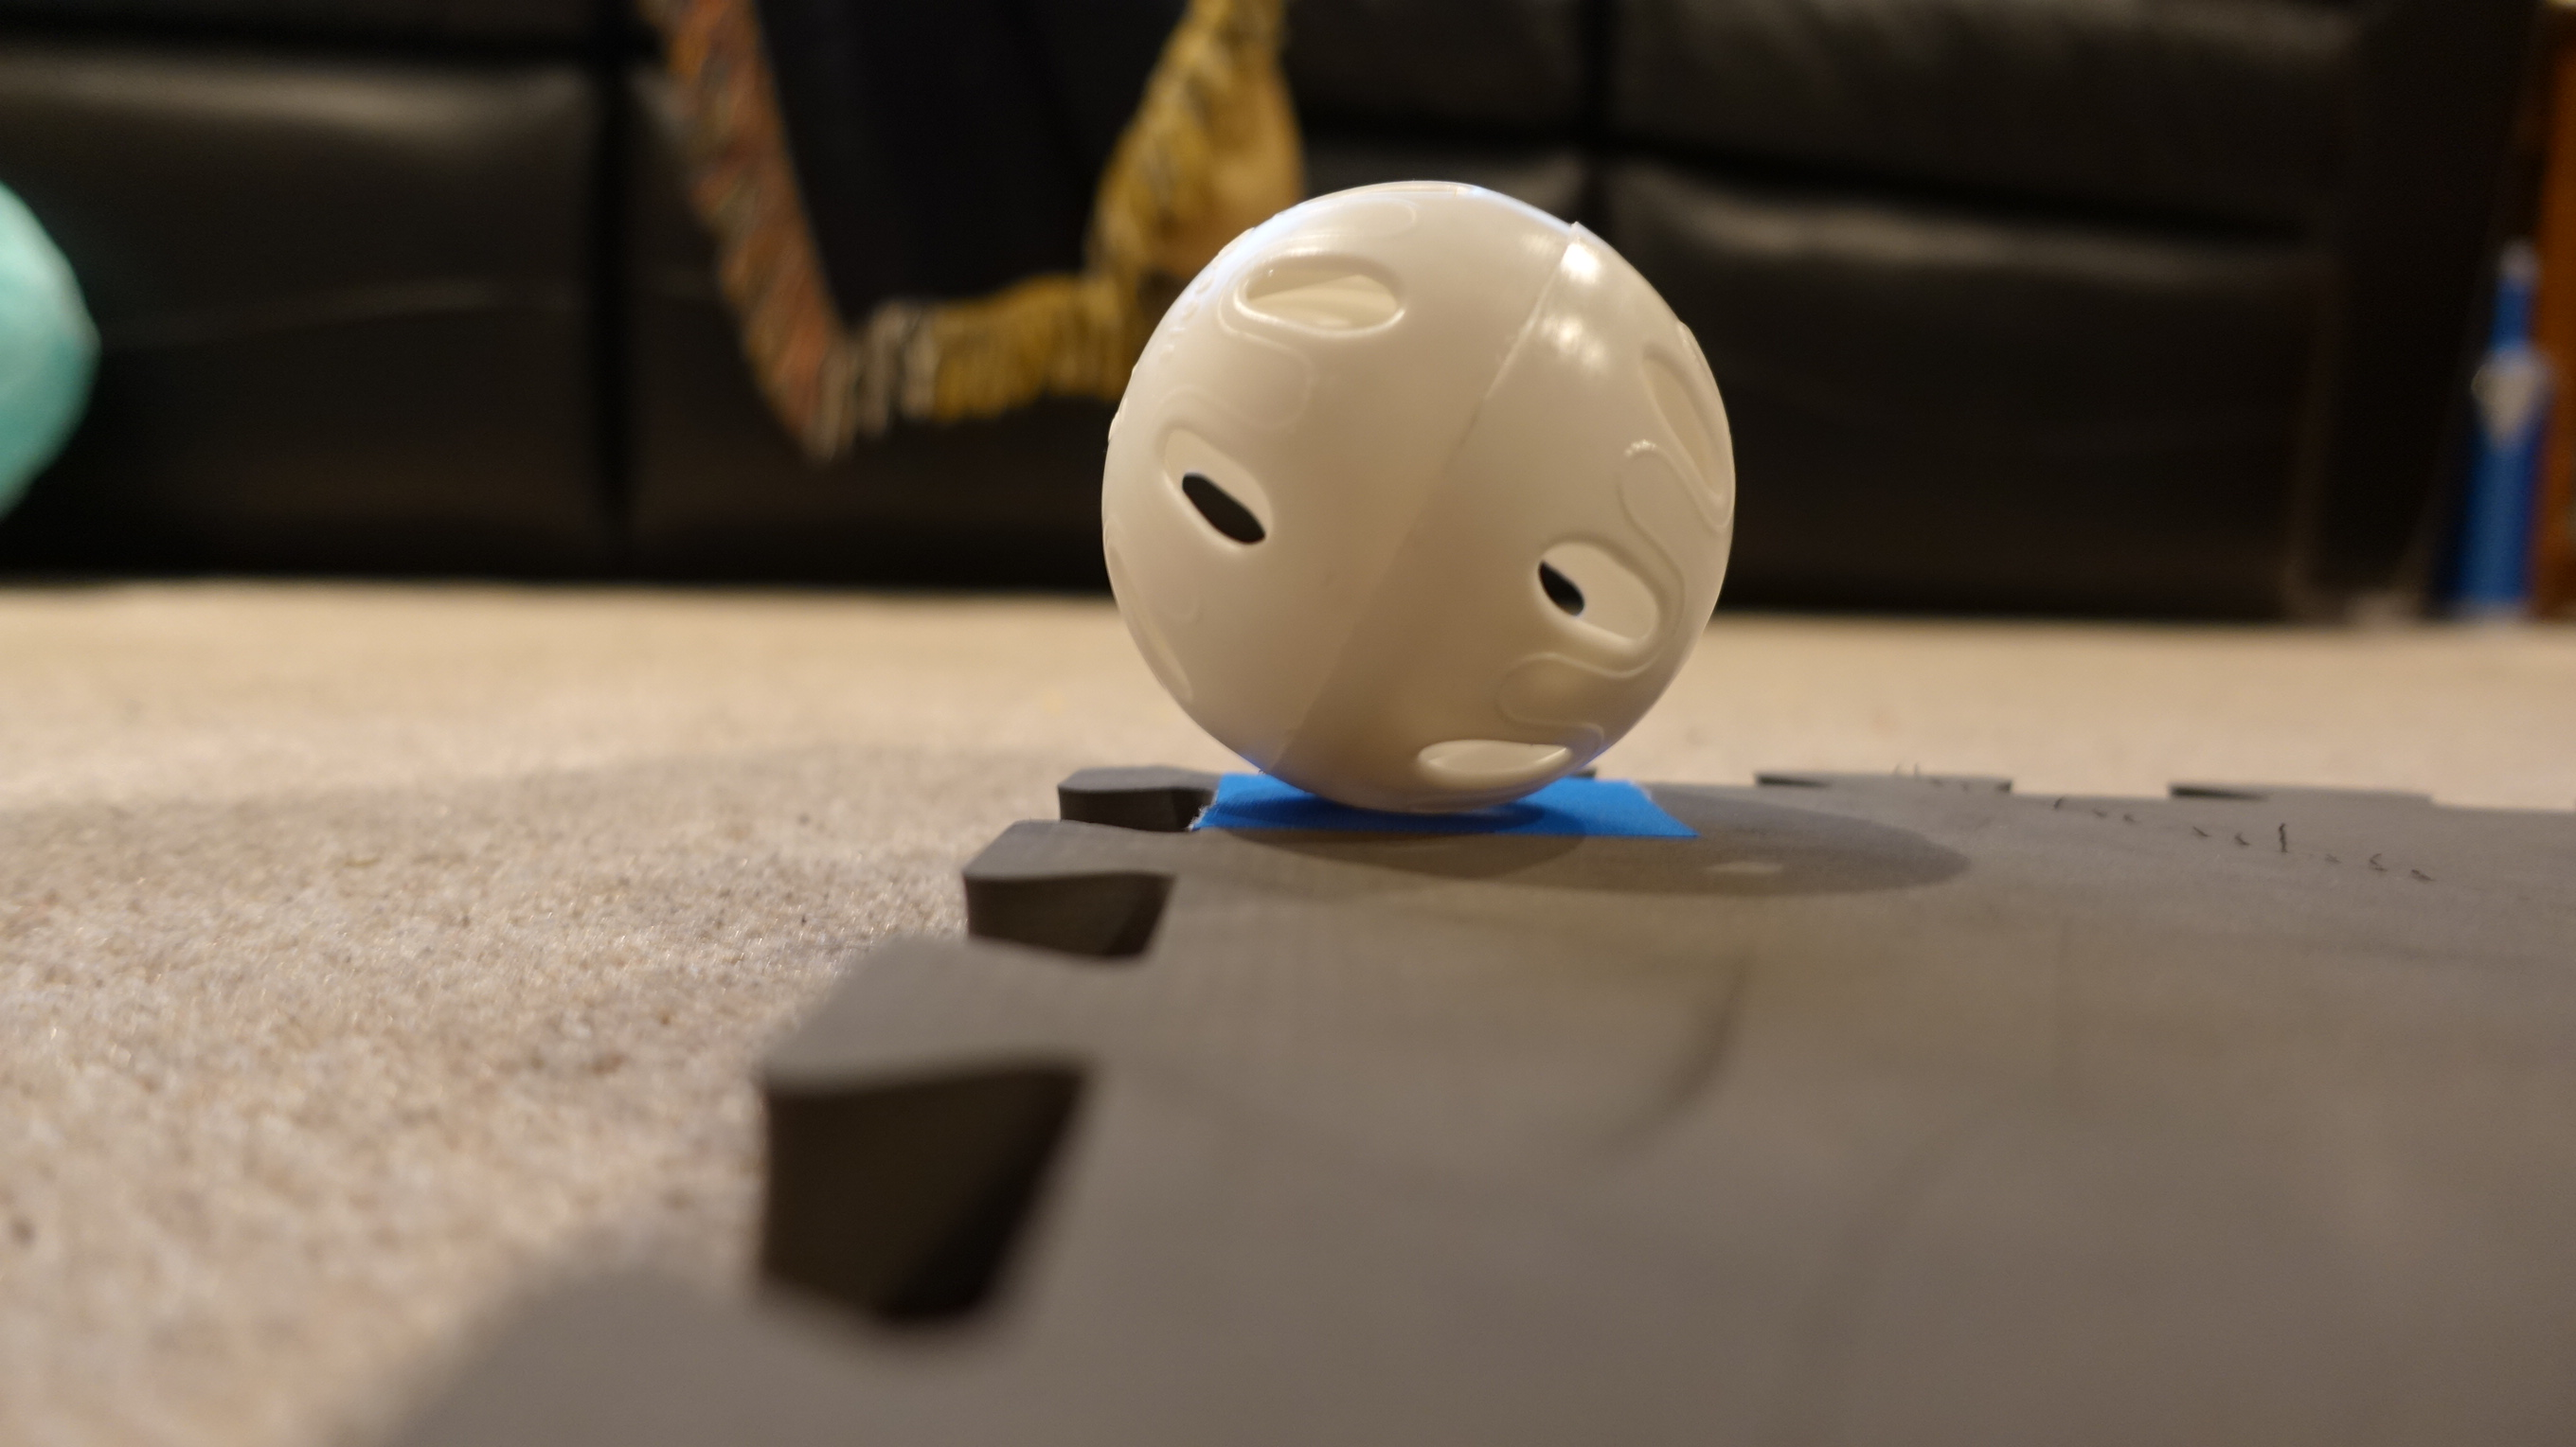silver: (1095, 179, 1739, 819)
